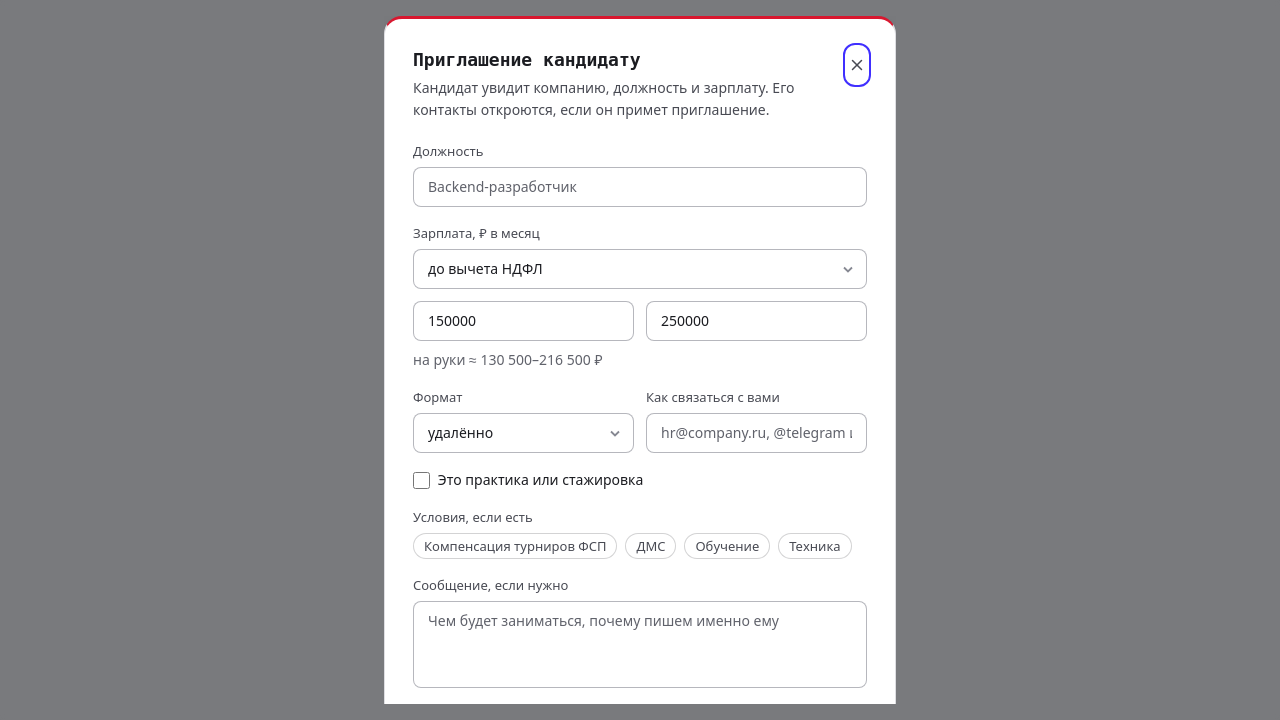
Scenario: приглашение › берёт МРОТ из API и не пропускает вилку ниже него
Replace the text in the number field named "От" with "20000" at point(524, 321), box [413, 301, 634, 341]
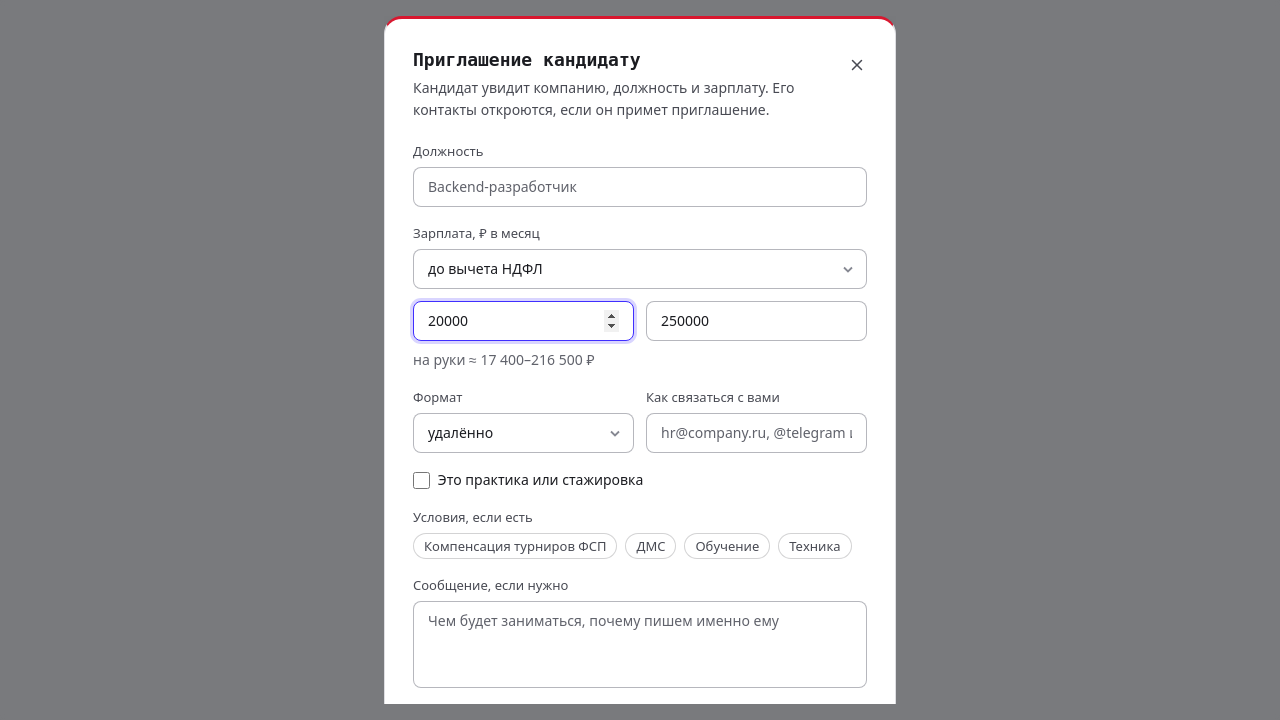
Replace the text in the number field named "До" with "30000" at point(756, 321), box [646, 301, 867, 341]
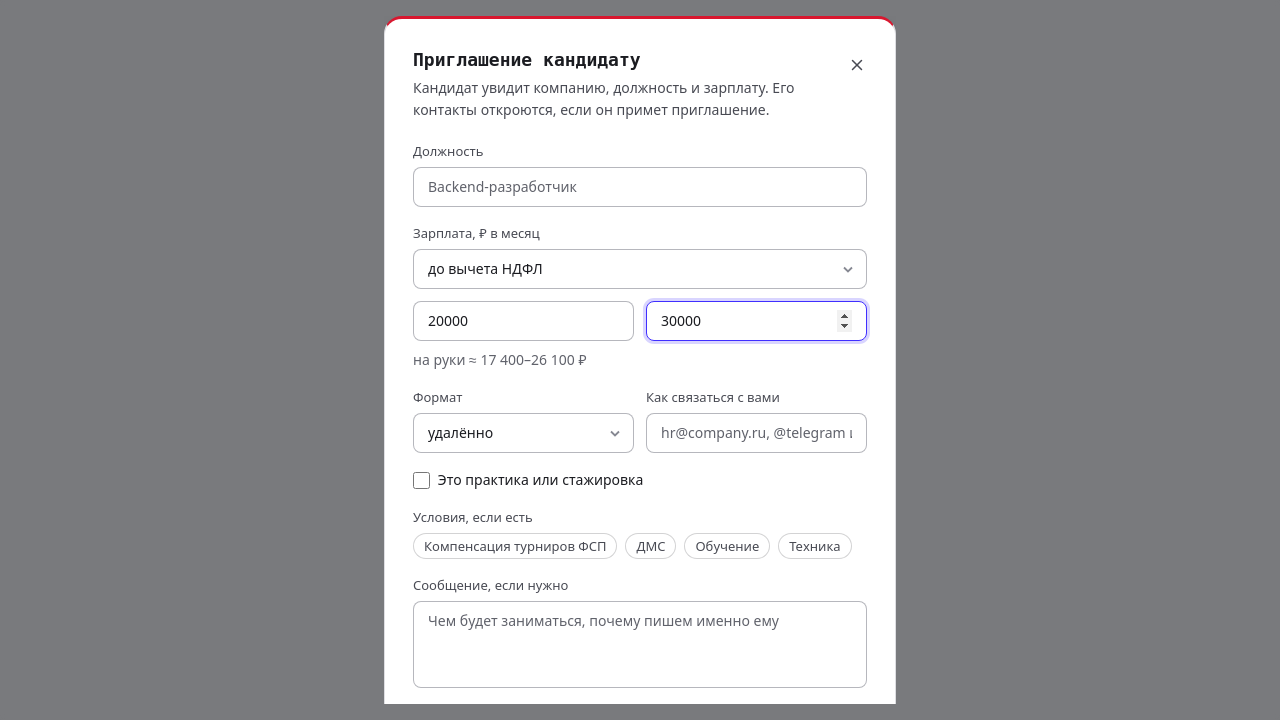
Type "Backend" into the field labelled "Должность" at point(640, 187), box [413, 167, 867, 207]
(page scrolled)
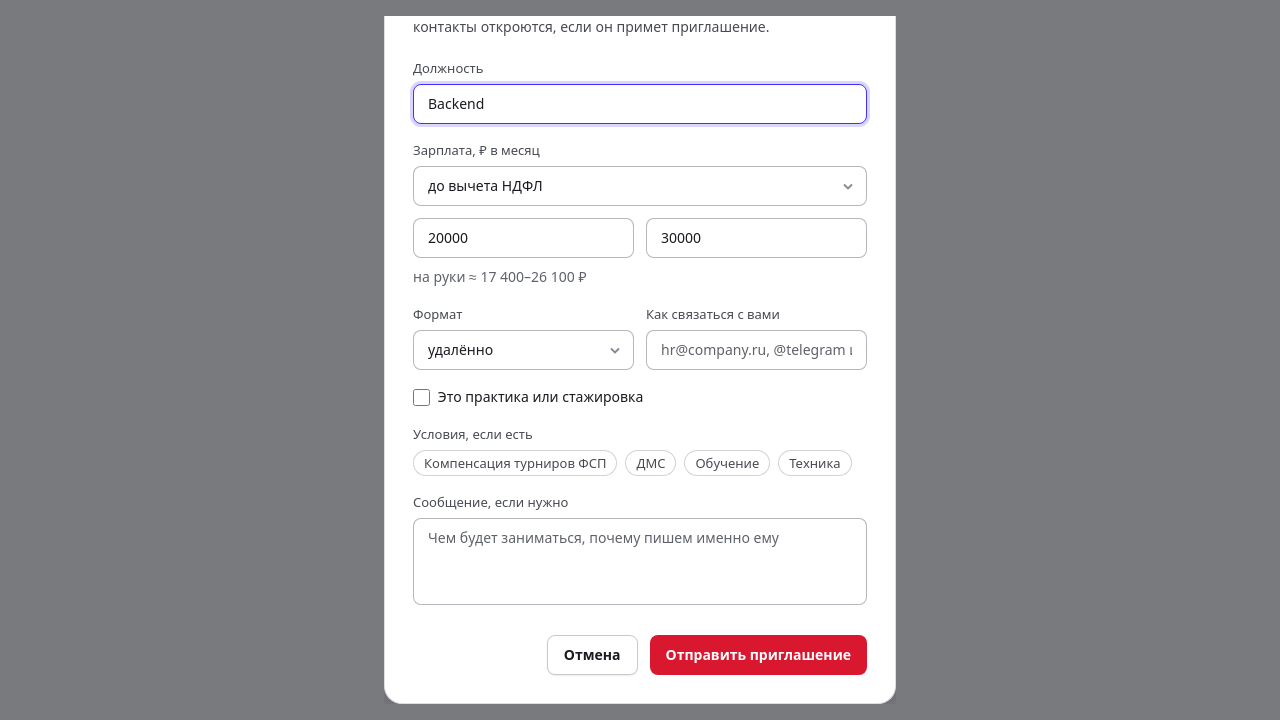
Click the button "Отправить приглашение" at point(758, 655), box [650, 635, 867, 675]
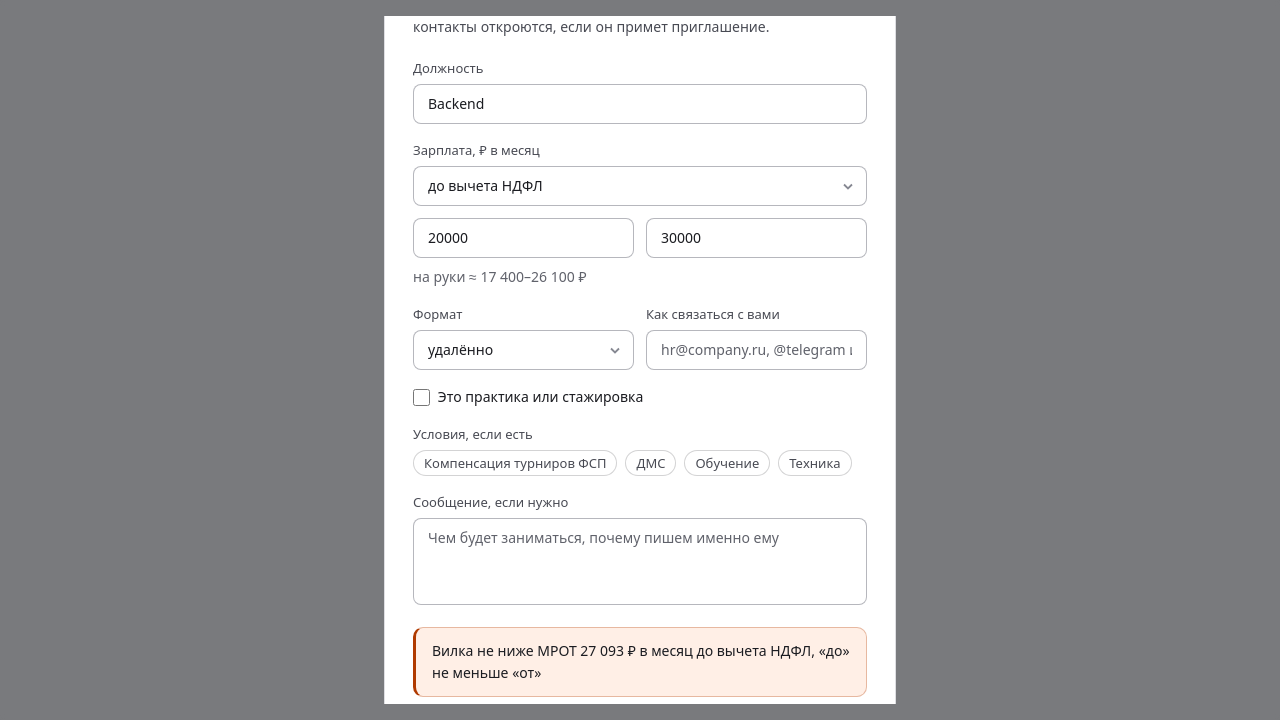
Expected: the text "Вилка не ниже МРОТ 27 093 ₽ в месяц до вычета НДФЛ, «до» не меньше «от»" is shown, [413, 627, 867, 697]
